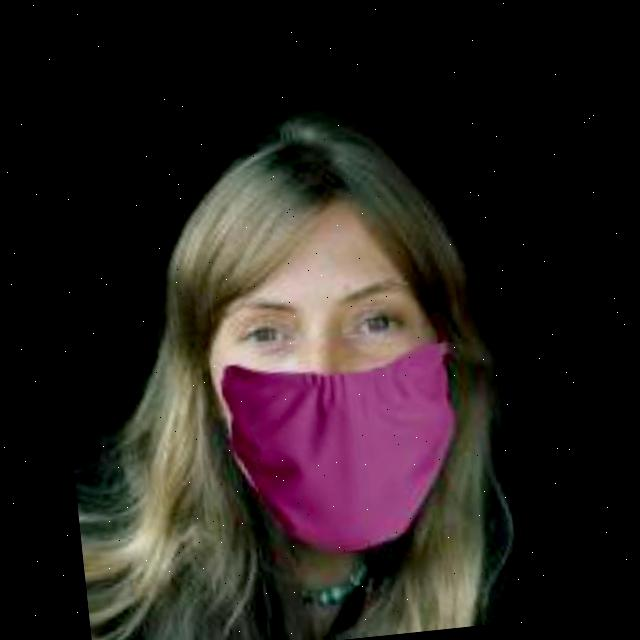suspicion: (165, 137, 495, 593)
